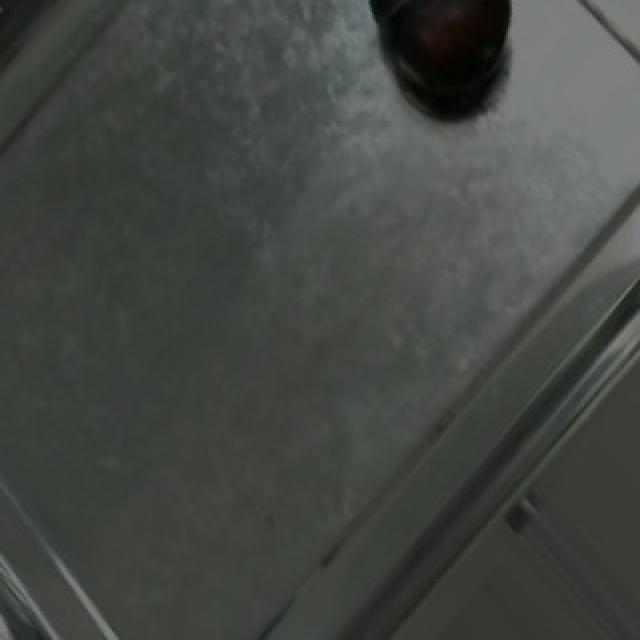Fruit: (368, 0, 532, 124), (550, 0, 640, 92)
